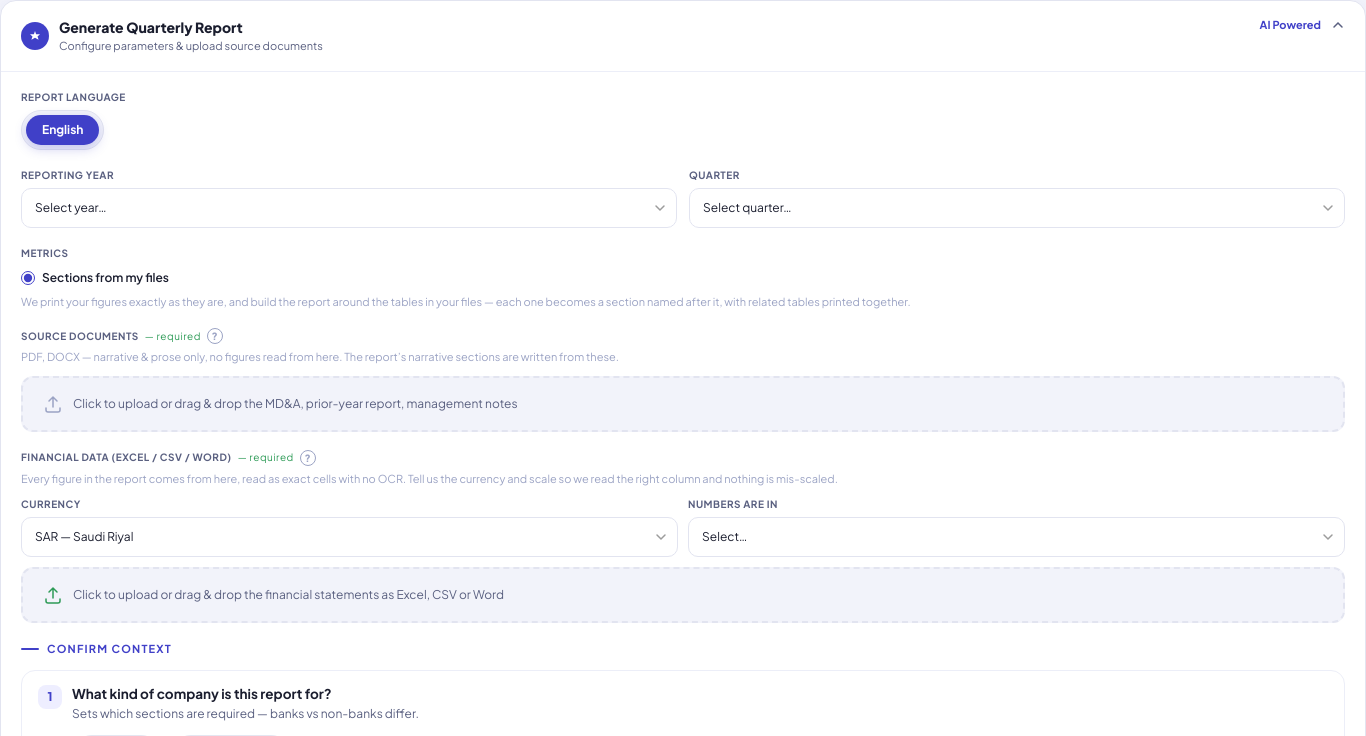
Test: upload help panels › lists the financial statements on click
Click the button named "what financial documents to upload". click: [308, 458]
box: x1=300 y1=450 x2=316 y2=466
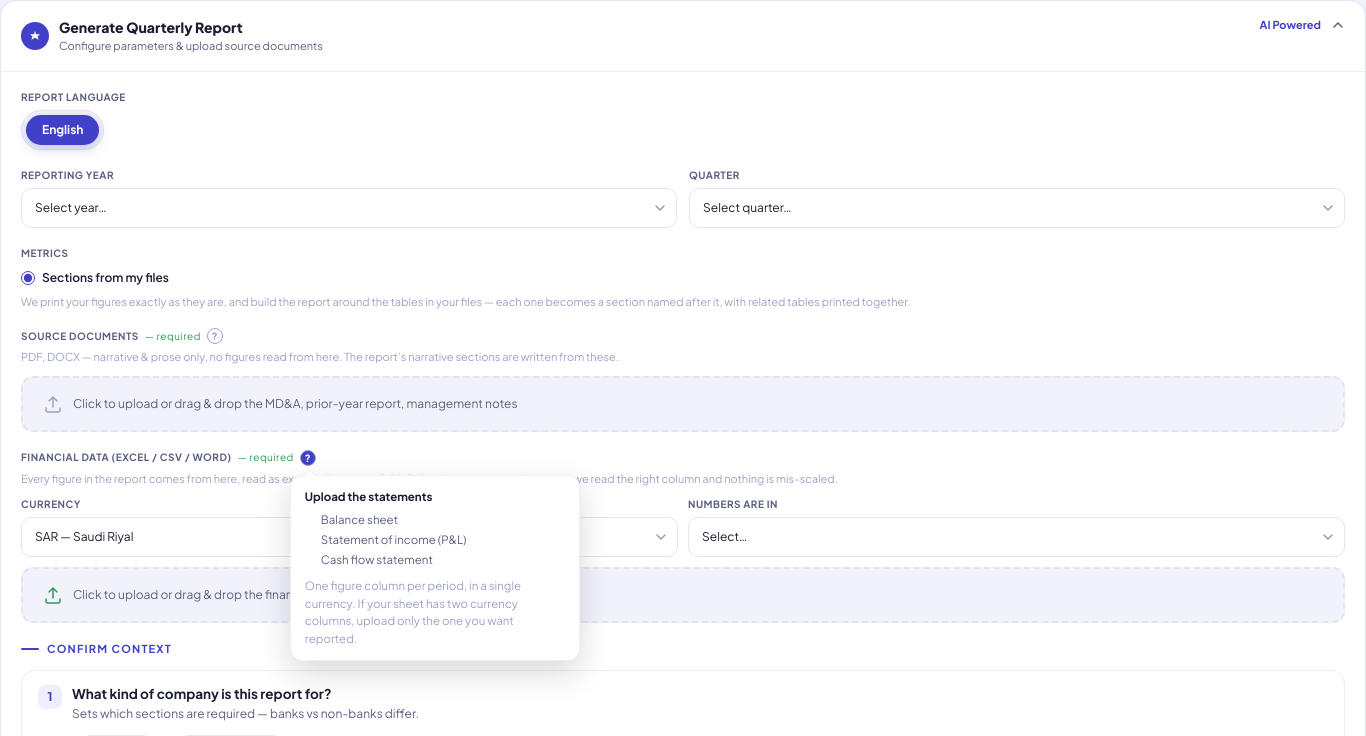
Now the element named "financial data" shows "Balance sheet", box x1=321 y1=512 x2=398 y2=527
Now the element named "financial data" shows "Statement of income", box x1=321 y1=532 x2=466 y2=547
Now the element named "financial data" shows "Cash flow statement", box x1=321 y1=552 x2=433 y2=567
